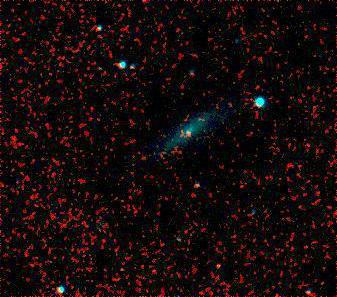star: (174, 118, 204, 148)
